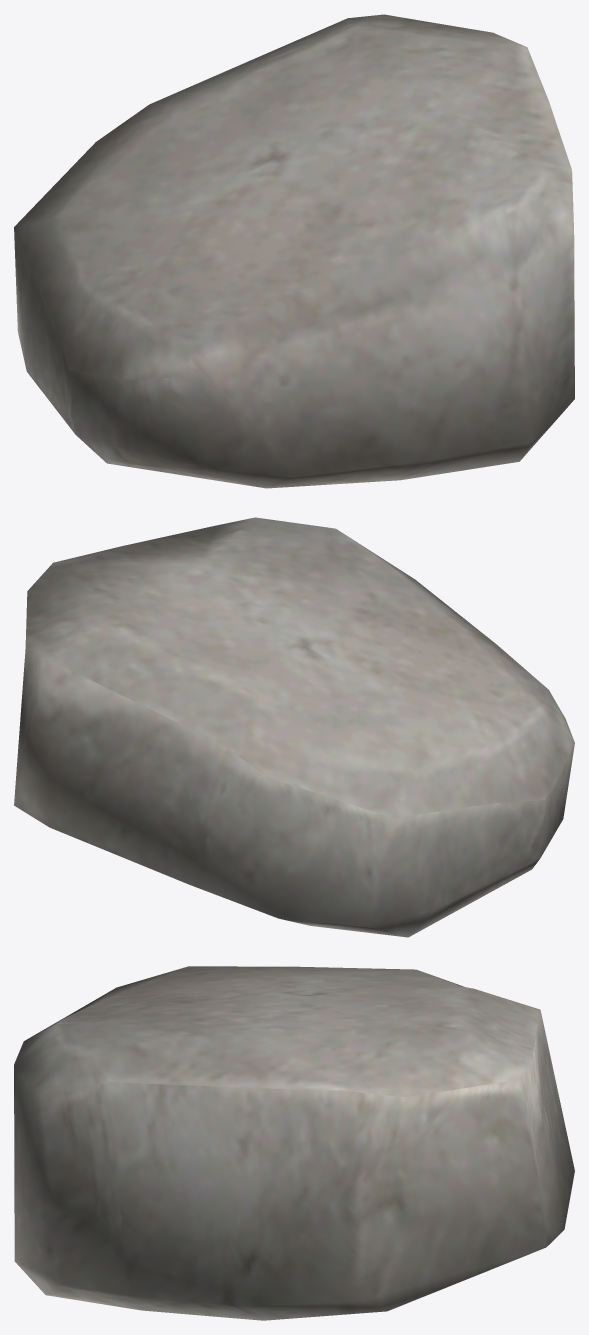
Rendered from Rock_03.glb.
The picture shows the model from 3 angles, top to bottom: view 1: azimuth 30°, elevation 25°; view 2: azimuth 150°, elevation 25°; view 3: azimuth 270°, elevation 25°; orthographic projection. The views are drawn at different scales.
Parts seen in each view (by area): view 1: rock_03; view 2: rock_03; view 3: rock_03.
Boxes of the visible parts, x1=… form: rock_03: x1=14, y1=14, x2=574, y2=488; rock_03: x1=14, y1=517, x2=574, y2=937; rock_03: x1=14, y1=966, x2=574, y2=1320.
Bounding box in the file's own units: 1.58 × 0.8121 × 1.43.
Materials: 1 (1 with a texture image).
